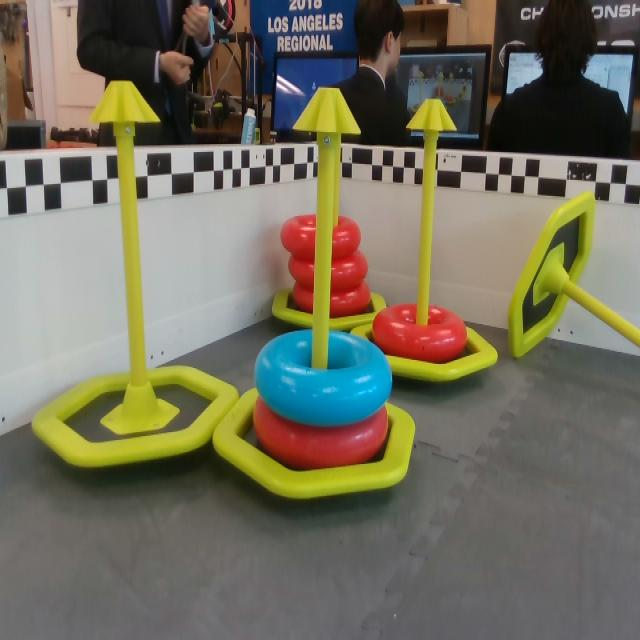Blue-Ring: (249, 326, 395, 431)
Mobile-Goal: (212, 78, 419, 507), (26, 81, 242, 473), (350, 95, 506, 385), (271, 89, 387, 330), (509, 192, 639, 364)
Red-Ring: (256, 403, 394, 468), (374, 301, 466, 364), (276, 215, 360, 264), (286, 255, 369, 292), (295, 278, 371, 310)
Yellow-Stake-Head: (84, 79, 162, 128), (293, 88, 361, 135), (406, 99, 458, 131)
